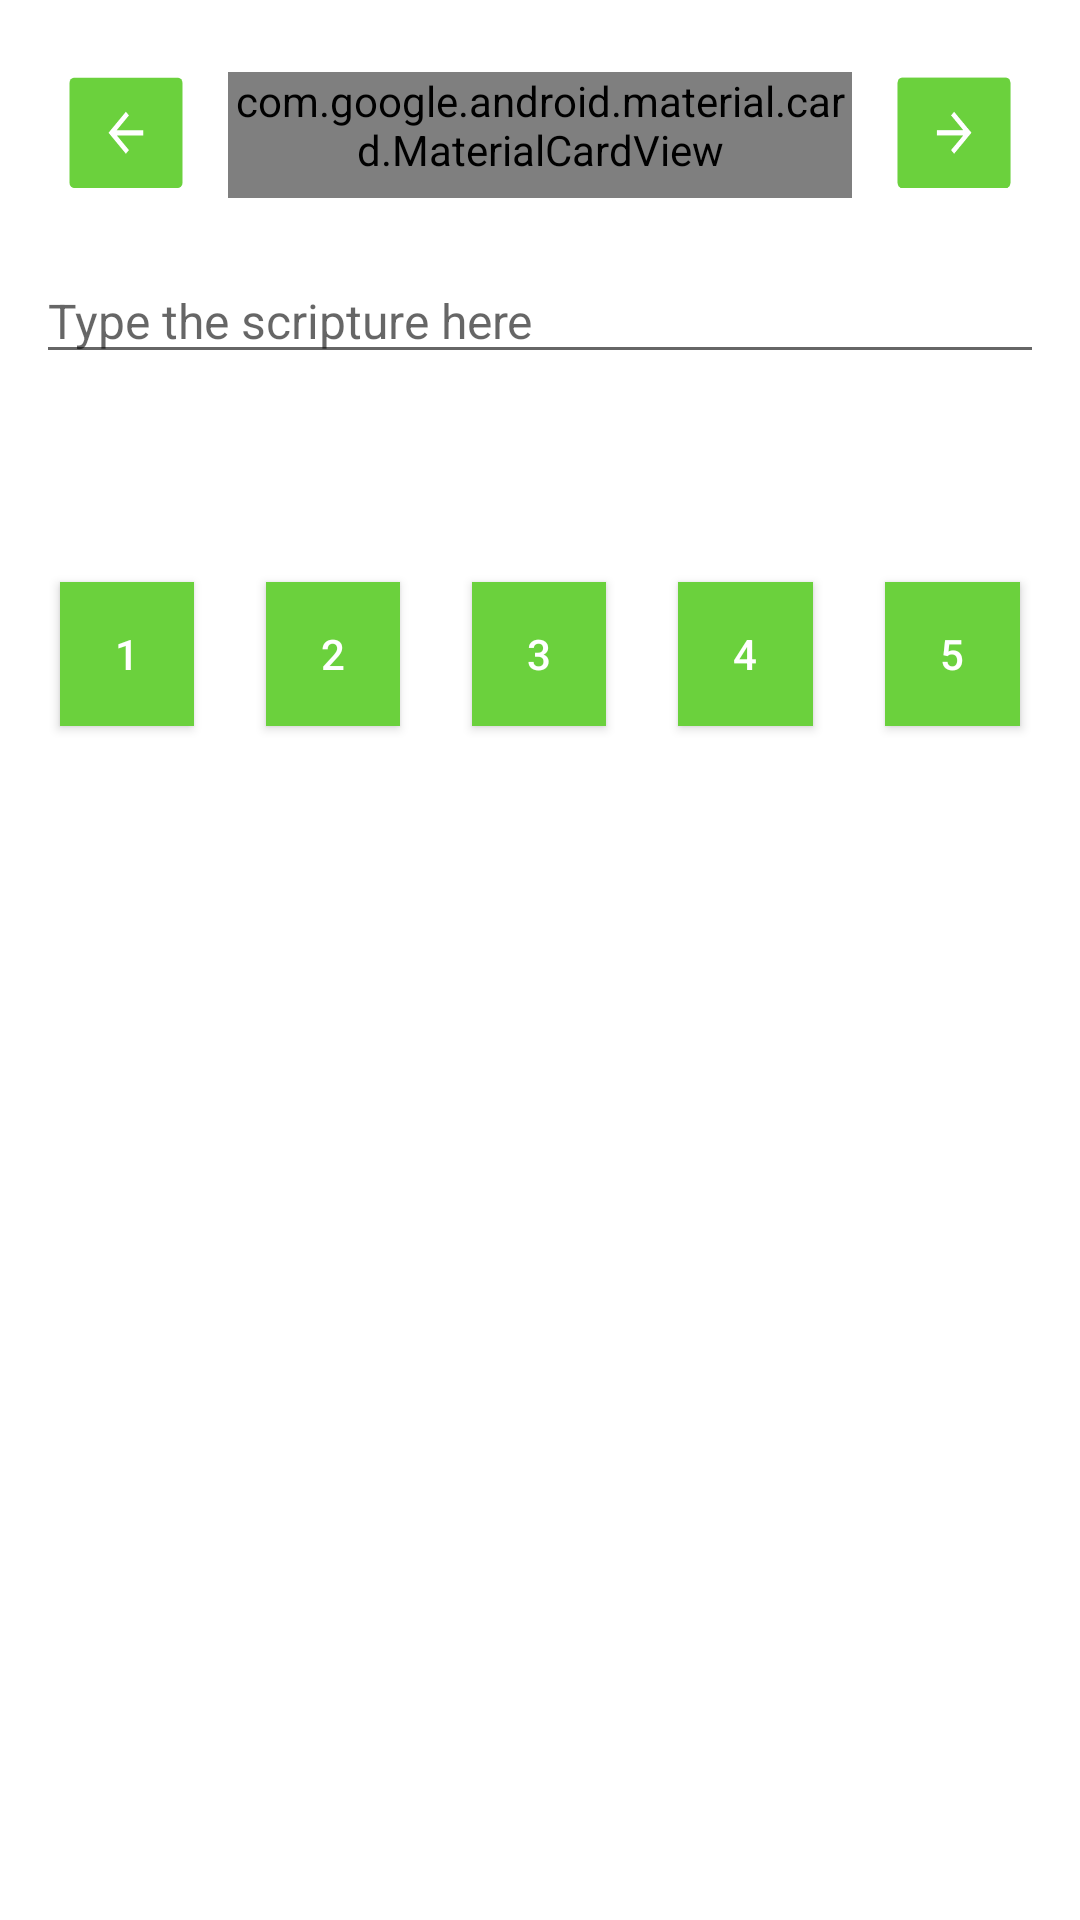

Icons on this 1080*1920 Android screen, each with the point to tap as [x,y]:
left arrow: [126,132]
right arrow: [954,132]
